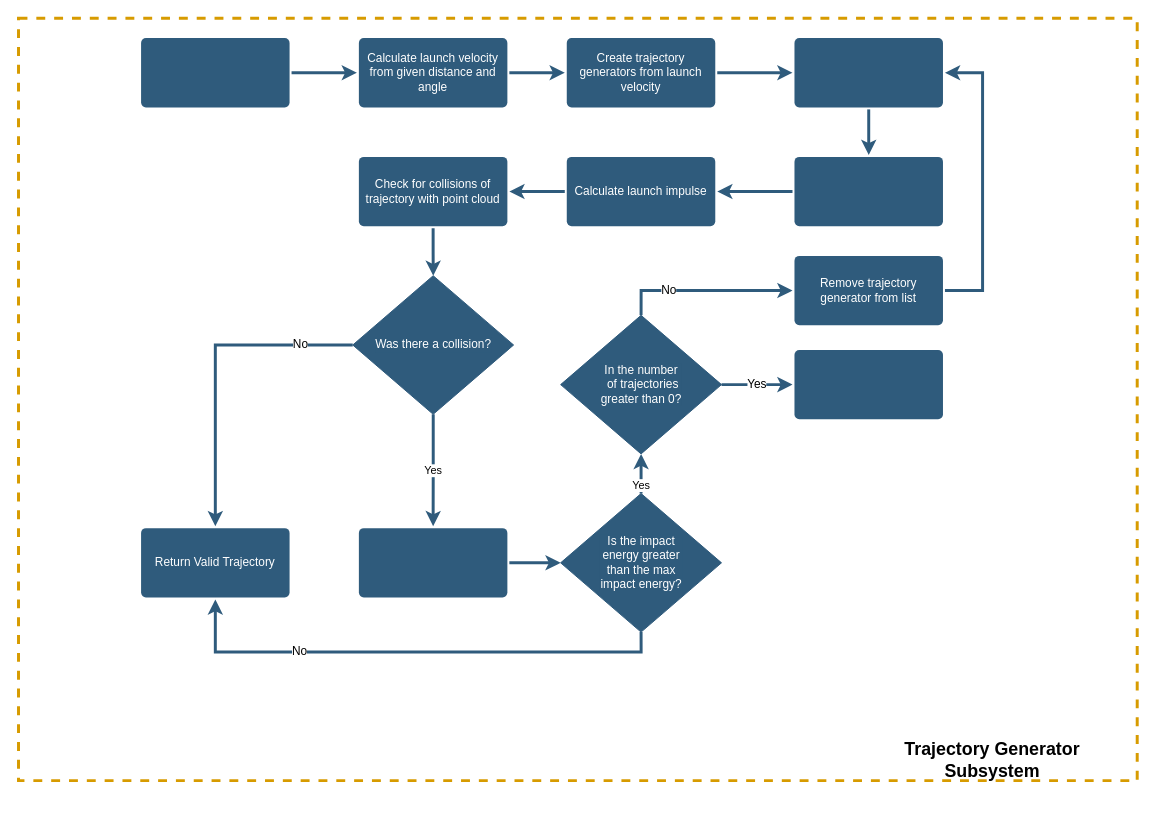
This 1155x814 diagram has some shape labels left out. Each missing label, with the centre of its shape:
Calculate impact energy exerted upon collision: the point at 432,562
Create trajectory array from generators: the point at 868,191
Initialize parameters: the point at 215,72
Pick the trajectory with the longest time of flight: the point at 868,72
Return Failure: the point at 868,384
